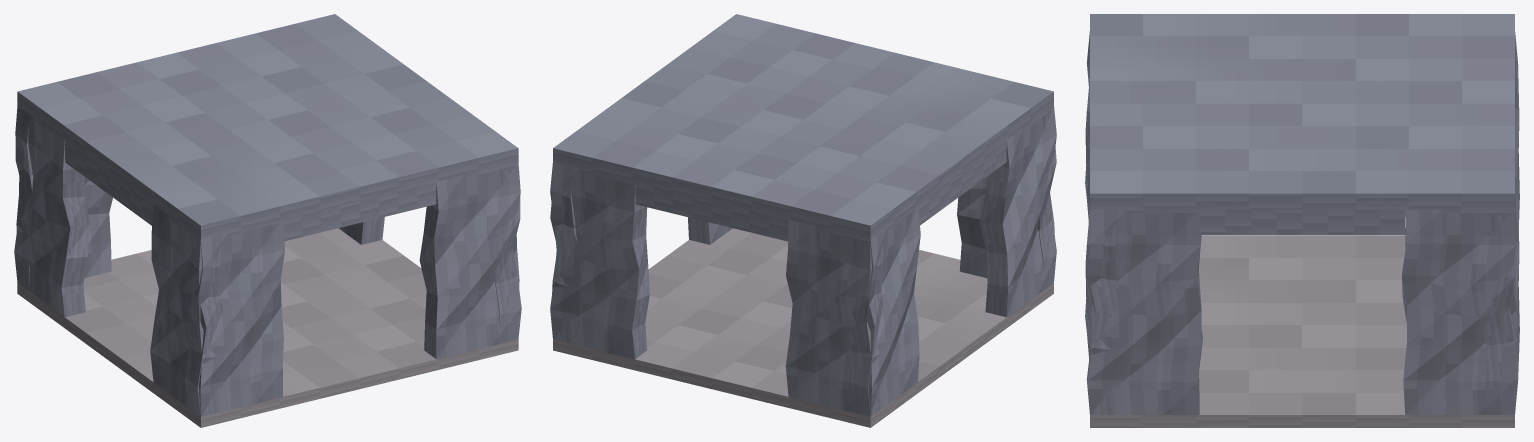
Rendered from cave-and-crystal-networks-small-chamber-b1dd230a.glb.
3 renders of one model, left to right at view 1: azimuth 30°, elevation 25°; view 2: azimuth 150°, elevation 25°; view 3: azimuth 270°, elevation 25°, orthographic. The views are drawn at different scales.
Parts seen in each view (by area): view 1: small-chamber; view 2: small-chamber; view 3: small-chamber.
Boxes of the visible parts, <box> form: small-chamber: <box>14,14,521,427</box>; small-chamber: <box>550,14,1056,427</box>; small-chamber: <box>1085,14,1519,427</box>.
Bounding box in the file's own units: 6.14 × 3.65 × 6.14.
Materials: 2 (2 with a texture image).
